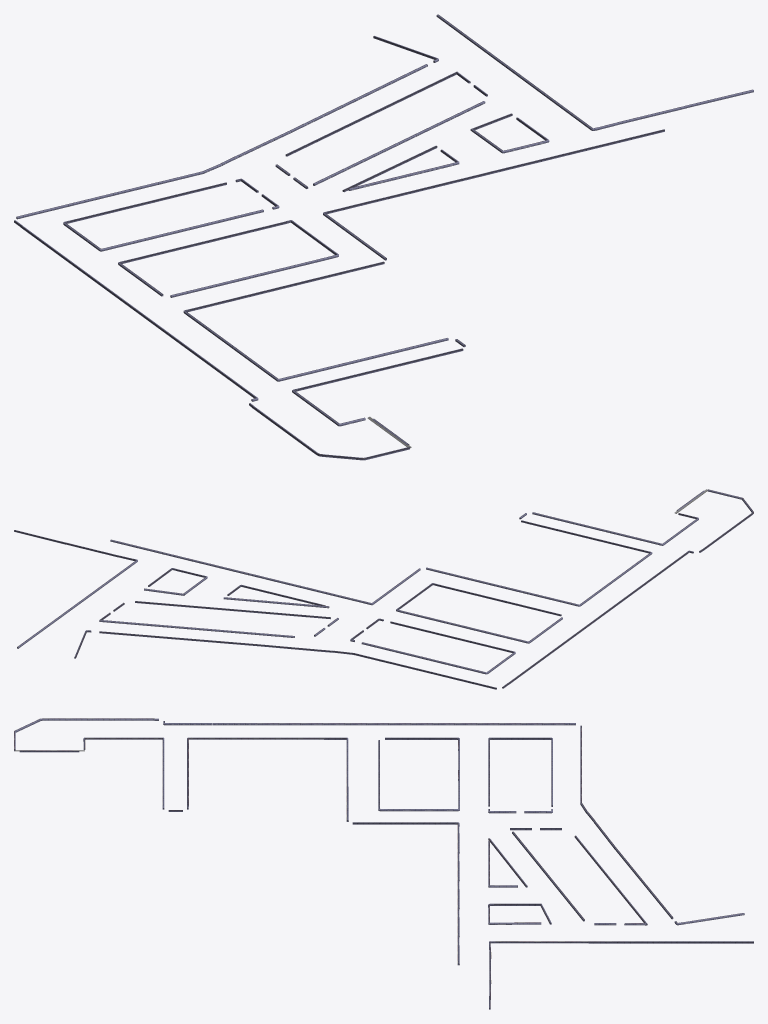
File: Curbs_Connected2.fbx
3 renders of one model, top to bottom at view 1: azimuth 30°, elevation 25°; view 2: azimuth 150°, elevation 25°; view 3: azimuth 270°, elevation 25°, orthographic. The views are drawn at different scales.
Bounding box in the file's own units: 15526 × 45.43 × 16767.
2 materials, 1 textured.
